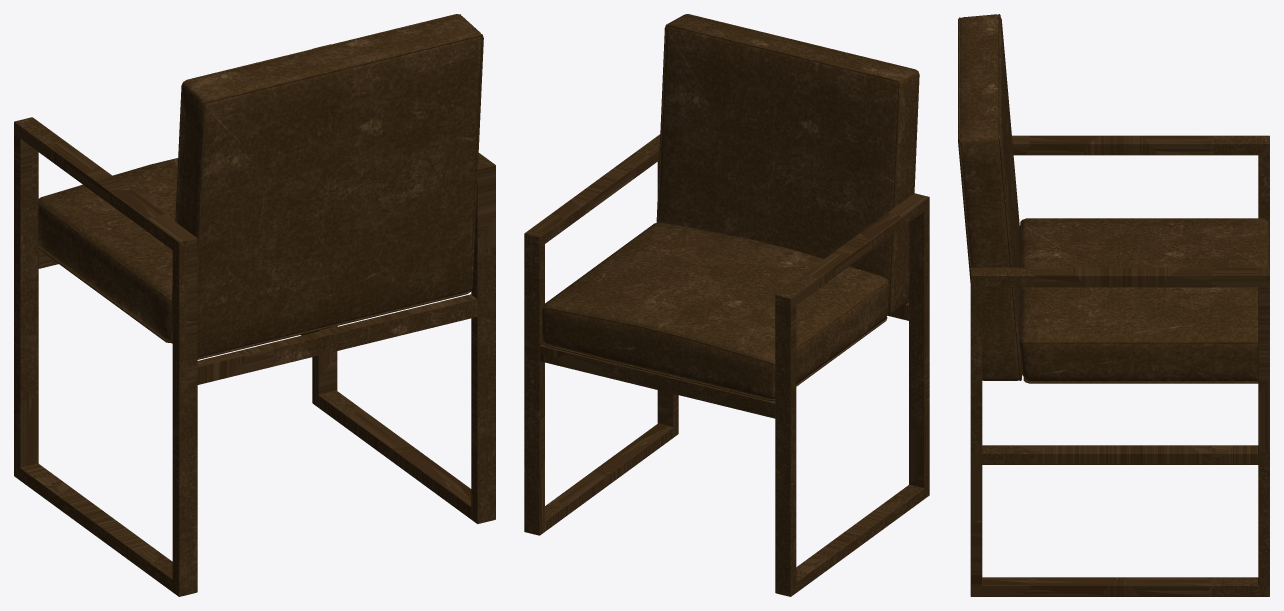
File: cadeira_newport.obj
The picture shows the model from 3 angles, left to right: view 1: azimuth 30°, elevation 25°; view 2: azimuth 150°, elevation 25°; view 3: azimuth 270°, elevation 25°; orthographic projection. The views are drawn at different scales.
Visible parts, largest first — view 1: Assento_low, estutura; view 2: Assento_low, estutura; view 3: Assento_low, estutura.
Boxes of the visible parts, x1=… form: Assento_low: x1=38, y1=14, x2=483, y2=359; estutura: x1=14, y1=44, x2=495, y2=596; Assento_low: x1=542, y1=14, x2=919, y2=401; estutura: x1=524, y1=134, x2=929, y2=596; Assento_low: x1=958, y1=14, x2=1269, y2=383; estutura: x1=970, y1=135, x2=1269, y2=596.
Size of the model in its own units: 0.7622 by 1.15 by 0.7166.
